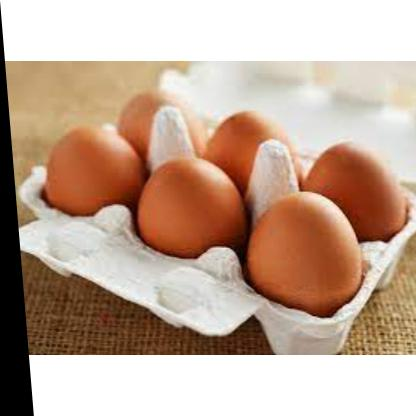egg: (235, 189, 366, 324), (127, 152, 249, 267), (294, 137, 411, 248), (36, 118, 151, 224), (195, 103, 303, 197), (110, 84, 213, 178)
